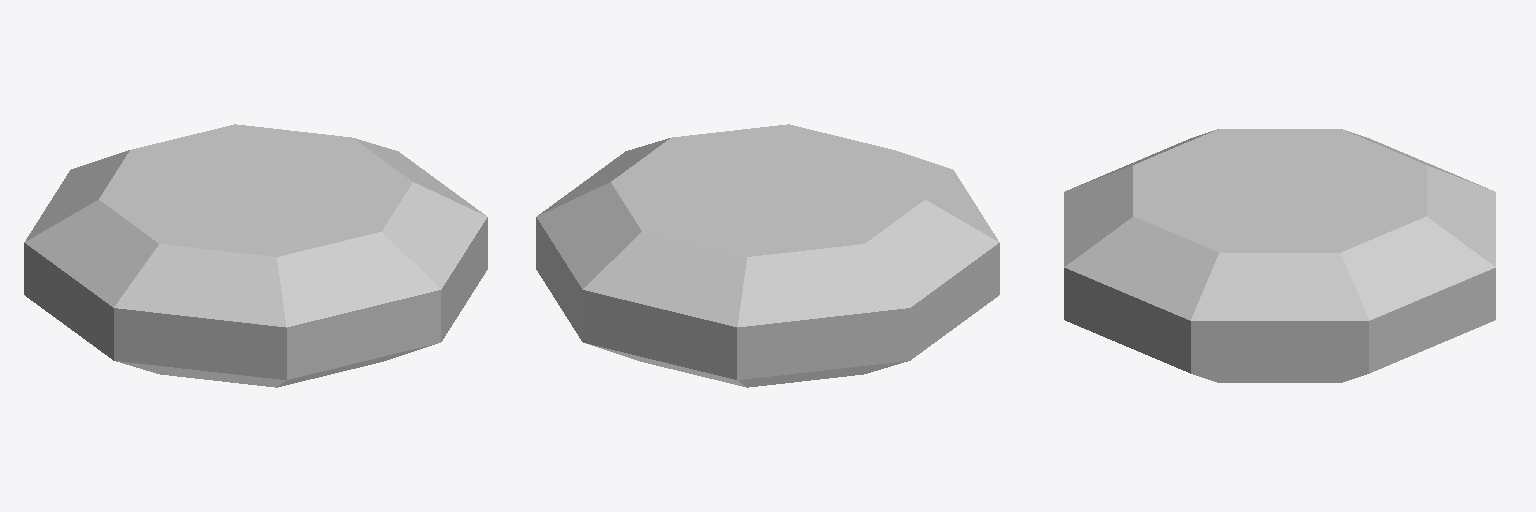
The model's file is runeStone.obj.
3 renders of one model, left to right at view 1: azimuth 30°, elevation 25°; view 2: azimuth 150°, elevation 25°; view 3: azimuth 270°, elevation 25°, orthographic.
Visible parts, largest first — view 1: Cylinder; view 2: Cylinder; view 3: Cylinder.
Part boxes in pixels (left/top/right/bottom): Cylinder: left=24, top=124, right=487, bottom=387; Cylinder: left=536, top=124, right=999, bottom=387; Cylinder: left=1064, top=129, right=1495, bottom=382.
Size of the model in its own units: 2.54 by 0.8485 by 2.54.